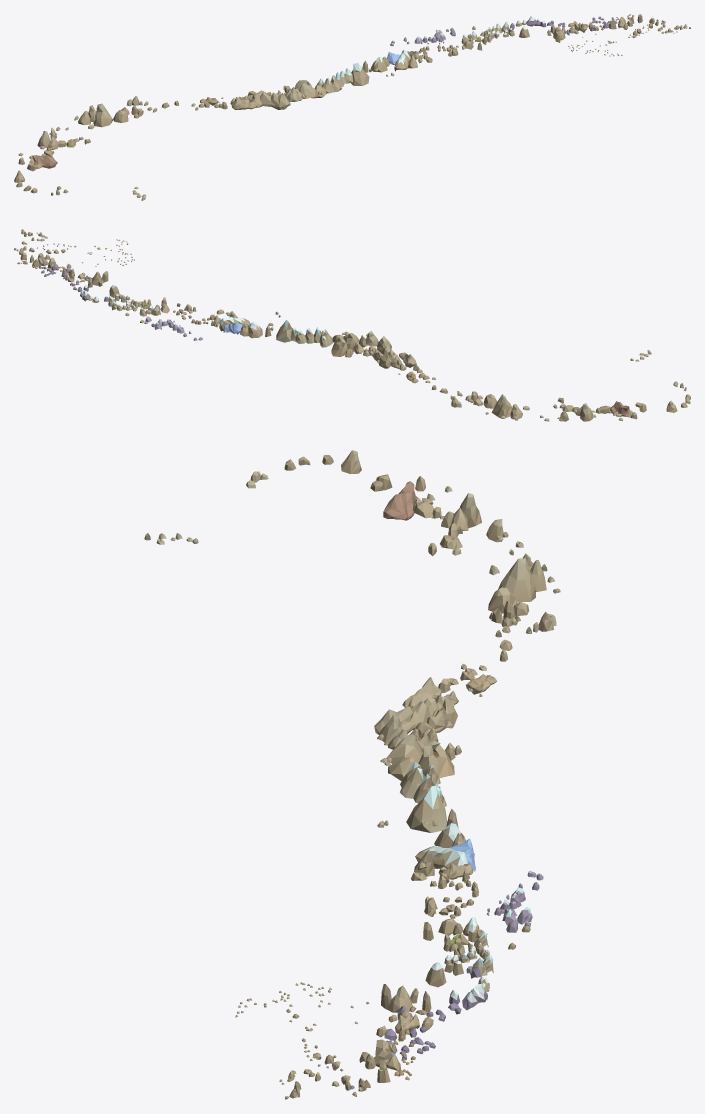
The model's file is Rocks_01.fbx.
3 renders of one model, top to bottom at view 1: azimuth 30°, elevation 25°; view 2: azimuth 150°, elevation 25°; view 3: azimuth 270°, elevation 25°, orthographic. The views are drawn at different scales.
Visible parts, largest first — view 1: Rocks_01; view 2: Rocks_01; view 3: Rocks_01.
Part boxes in pixels (x1,y1,x2,y2): Rocks_01: [14, 14, 690, 200]; Rocks_01: [14, 229, 690, 421]; Rocks_01: [144, 450, 560, 1099].
Size of the model in its own units: 86.24 by 2.49 by 23.41.
1 material, 1 textured.
